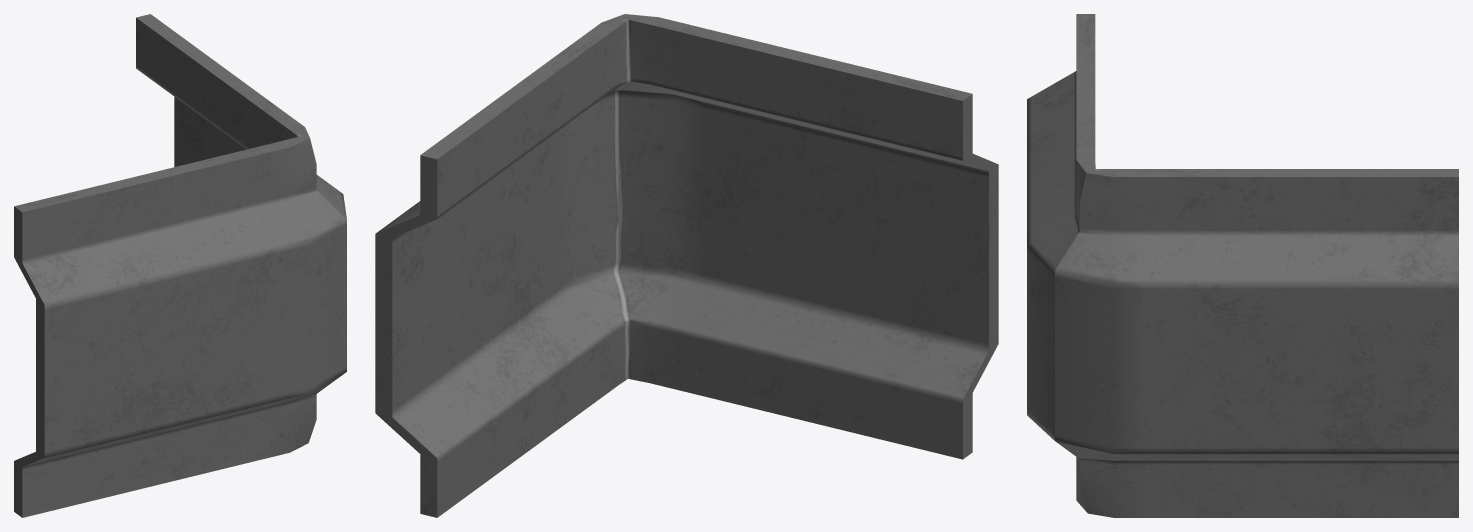
The model's file is WallOuterCorner.gltf.
3 views of the same model, side by side, from view 1: azimuth 30°, elevation 25°; view 2: azimuth 150°, elevation 25°; view 3: azimuth 270°, elevation 25° (orthographic). The views are drawn at different scales.
Visible parts, largest first — view 1: RoadKillOut_node; view 2: RoadKillOut_node; view 3: RoadKillOut_node.
Boxes of the visible parts, x1=… form: RoadKillOut_node: x1=14, y1=14, x2=346, y2=517; RoadKillOut_node: x1=375, y1=14, x2=998, y2=517; RoadKillOut_node: x1=1027, y1=14, x2=1458, y2=517.
Bounding box in the file's own units: 2.31 × 2 × 2.3.
1 material, 1 textured.
